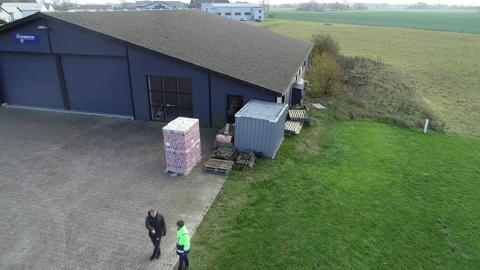RockwoolPallet: (161, 116, 203, 174)
